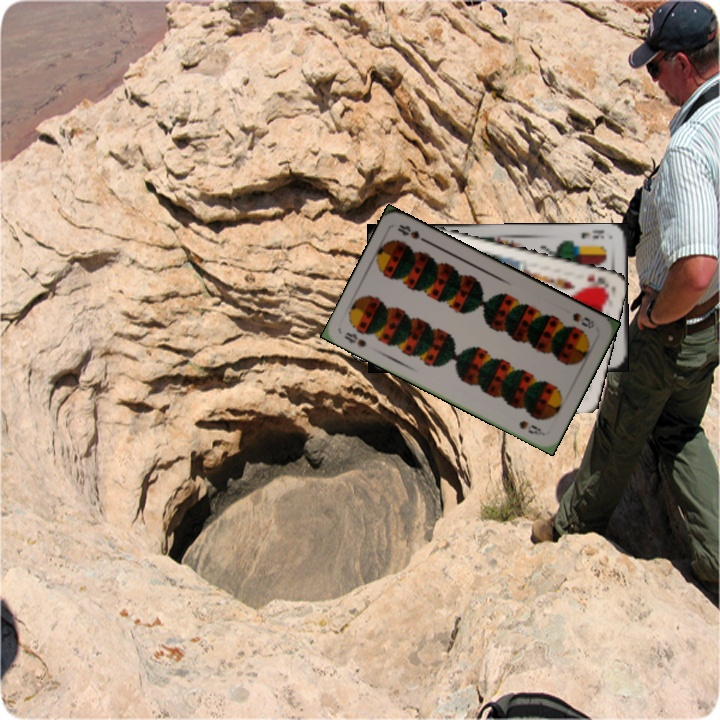EK: (577, 226, 607, 241)
HK: (583, 271, 608, 291)
S8: (568, 308, 597, 331), (340, 328, 370, 350)
